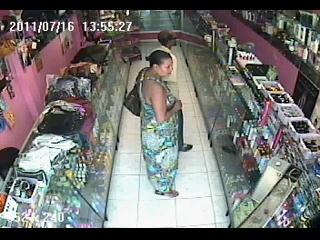Normal: (138, 49, 182, 198), (123, 68, 150, 117)
